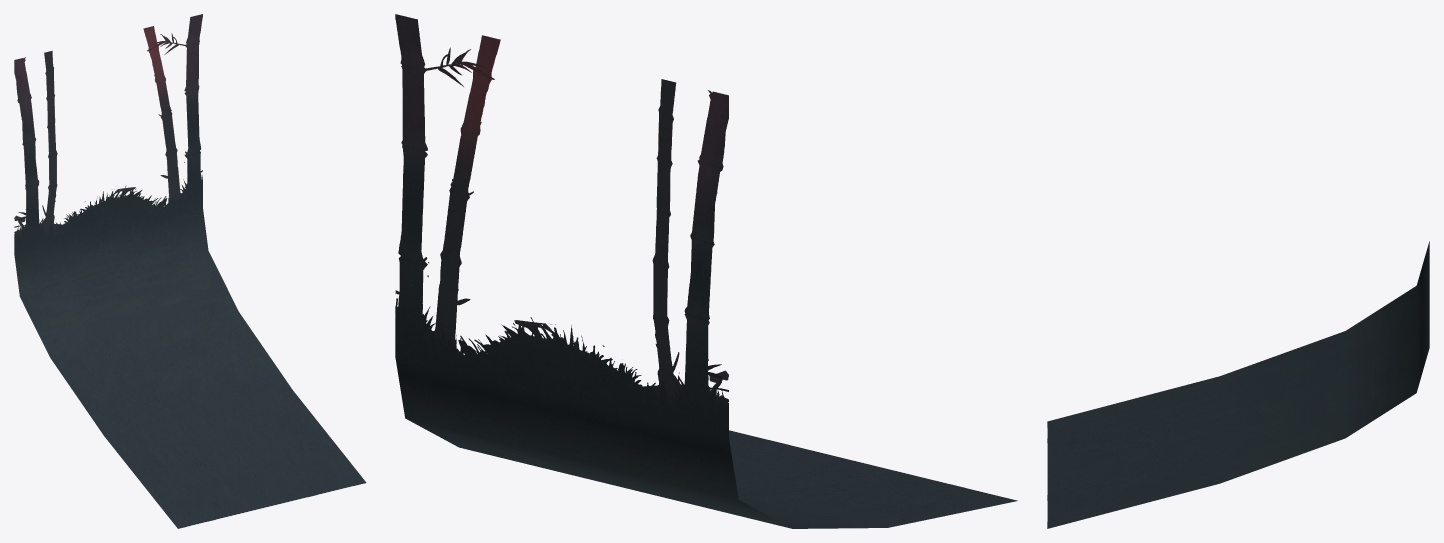
Rendered from Forground.FBX.
The picture shows the model from 3 angles, left to right: view 1: azimuth 30°, elevation 25°; view 2: azimuth 150°, elevation 25°; view 3: azimuth 270°, elevation 25°; orthographic projection. The views are drawn at different scales.
Parts seen in each view (by area): view 1: Plane001; view 2: Plane001; view 3: Plane001.
Part boxes in pixels (x1,y1,x2,y2): Plane001: (14,14,366,528); Plane001: (395,14,1017,528); Plane001: (1047,241,1429,528).
Bounding box in the file's own units: 1086 × 1920 × 1632.
Materials: 1 (1 with a texture image).
